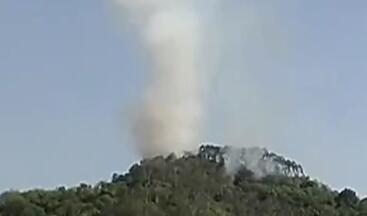yanwu: (113, 1, 273, 177)
